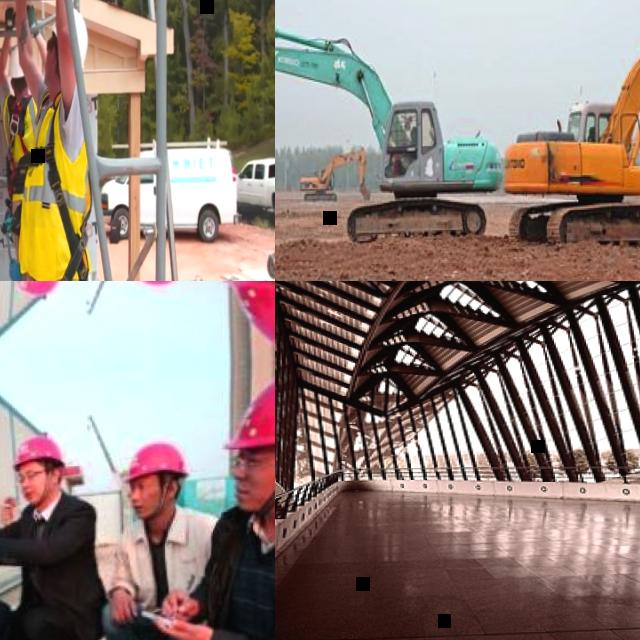Hardhat: (219, 367, 275, 454), (118, 442, 192, 489), (50, 8, 88, 75), (8, 436, 68, 475), (10, 281, 62, 302), (8, 47, 26, 79)
NO-Mask: (230, 470, 275, 510), (131, 494, 167, 514), (21, 483, 49, 505), (43, 45, 56, 87)
NO-Safety Vest: (114, 515, 220, 607), (209, 510, 275, 640), (8, 506, 93, 599)
Person: (142, 365, 275, 640), (97, 438, 222, 640), (0, 434, 106, 640), (15, 0, 92, 281), (0, 4, 49, 281), (219, 281, 275, 363), (217, 281, 275, 358), (6, 281, 67, 295), (121, 281, 186, 288), (406, 128, 416, 150), (587, 129, 595, 145)
Safety Vest: (16, 91, 89, 281), (3, 89, 39, 202)
vehicle: (275, 9, 502, 244), (505, 0, 640, 256), (100, 141, 240, 246), (298, 149, 371, 204), (235, 159, 275, 221)
